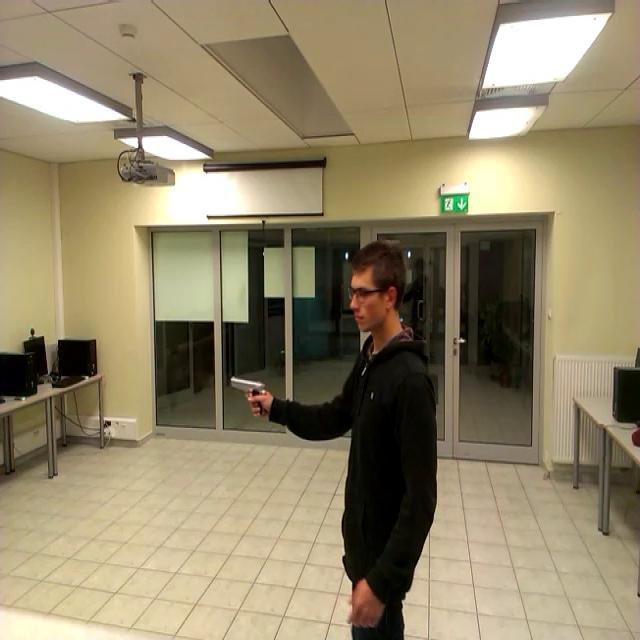Gun: (228, 368, 270, 414)
